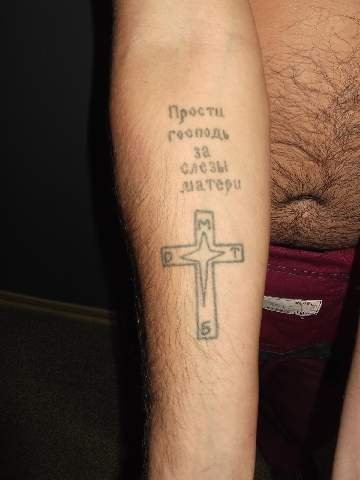tatu3_bukva: (167, 96, 248, 193)
tatu9_krest: (159, 200, 250, 349)
